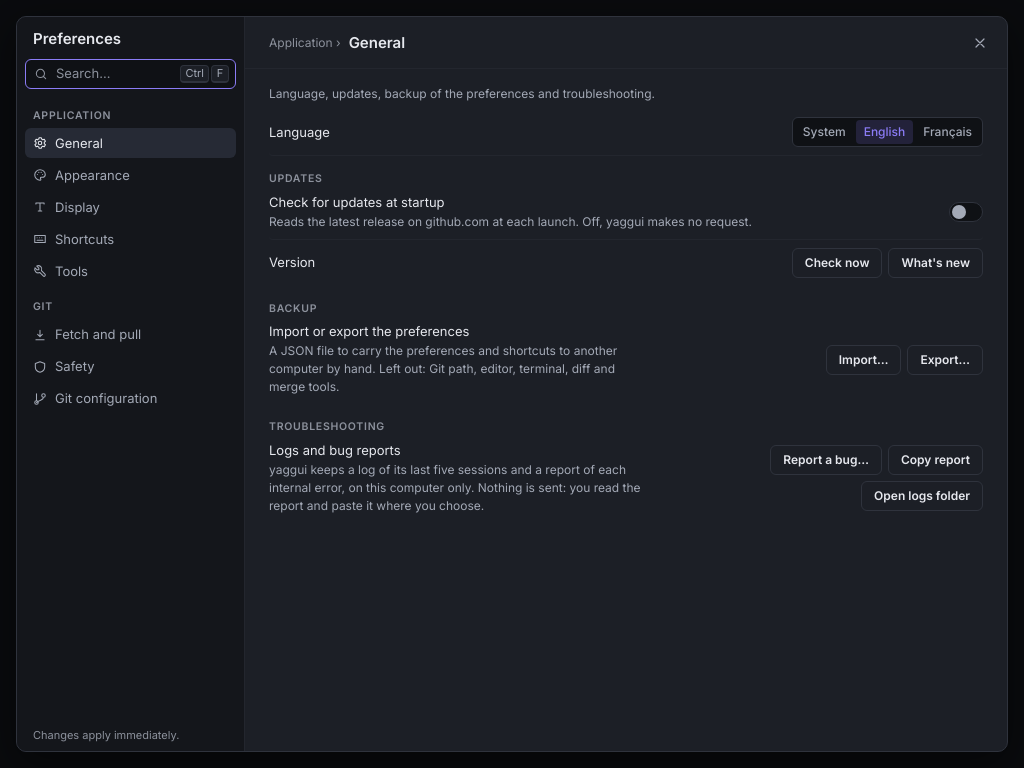
Test case: Preferences dialog › searches every section, with a count per section
Type "pull" into the search field named "Search settings".
click(114, 73); type("pull")  # box [54,64,174,83]
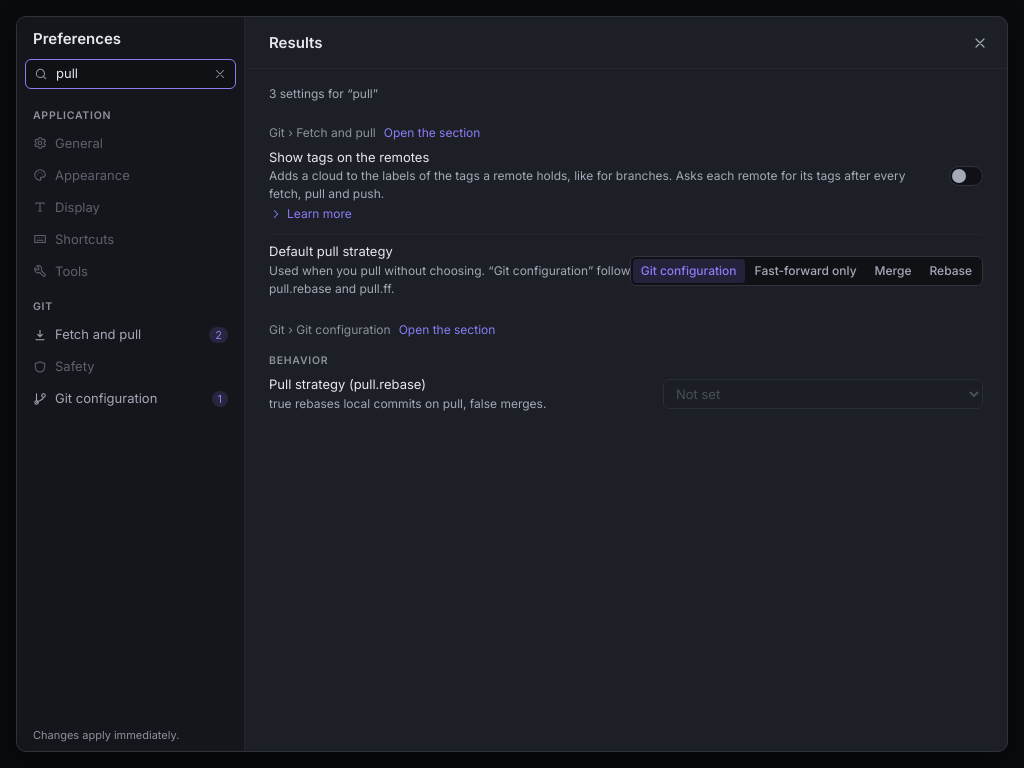
expect the heading "Results" is shown: met, box [269,33,322,52]
expect the text "Default pull strategy" is shown: met, box [269,244,393,260]
expect the text "Pull strategy (pull.rebase)" is shown: met, box [269,376,426,392]
// "Open the section" leaves the search for the section.
Click the 1st button "Open the section".
click(432, 133)  # box [384,125,480,141]
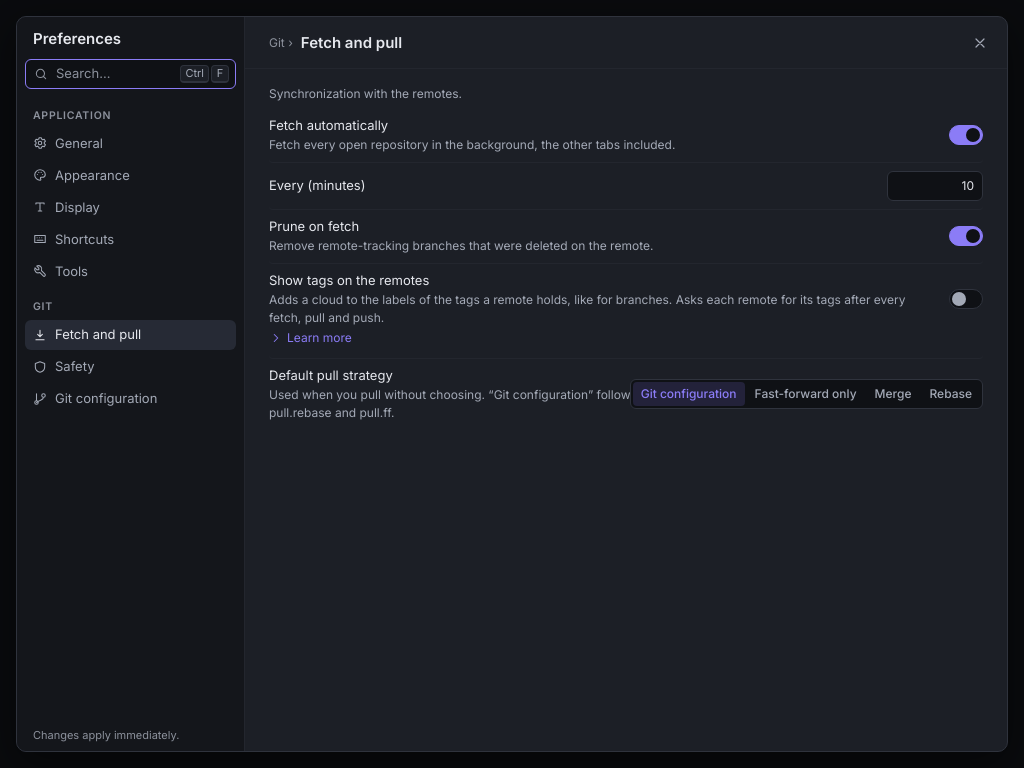
expect the text "Prune on fetch" is shown: met, box [269,218,359,234]
expect the search field is empty: met, box [54,64,174,83]
